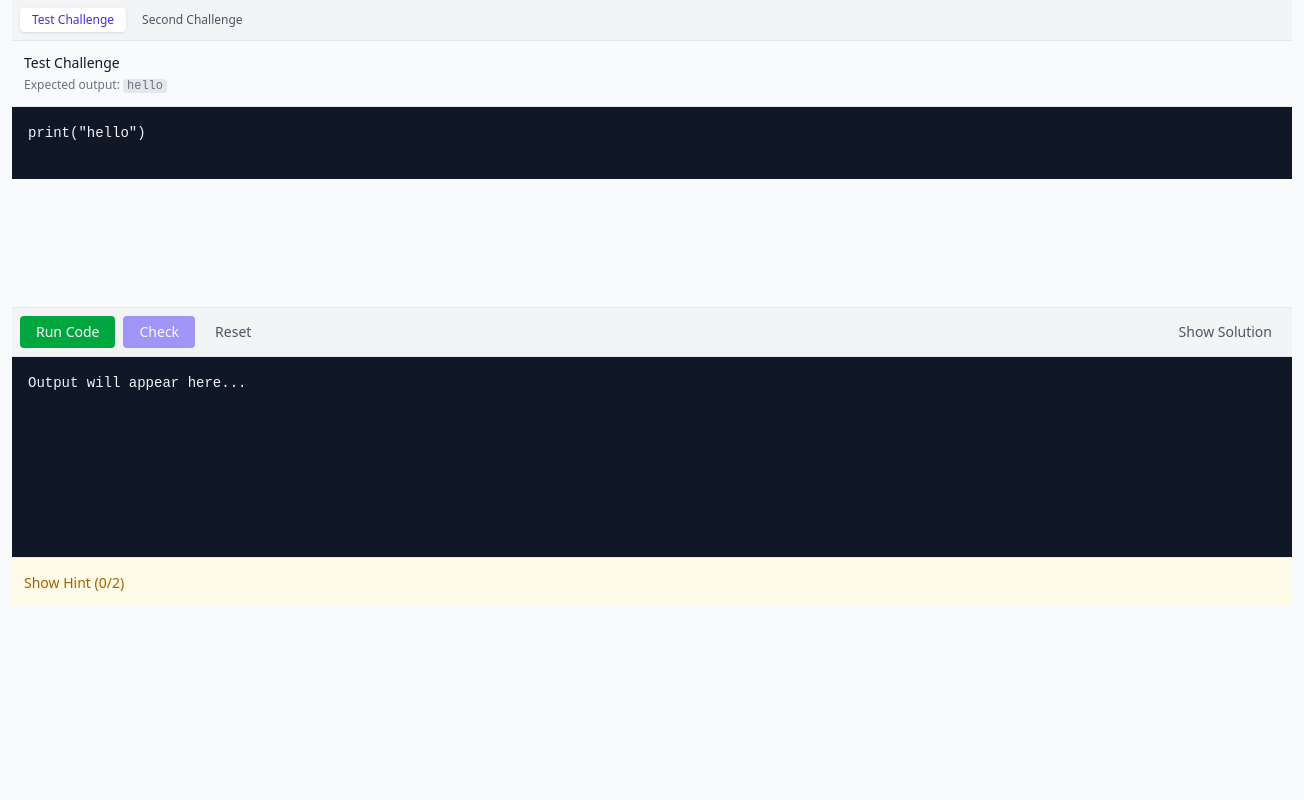
Test: CodeSandbox › switches between challenges
Click the button "Second Challenge" at (192, 20), box x1=130 y1=8 x2=255 y2=32
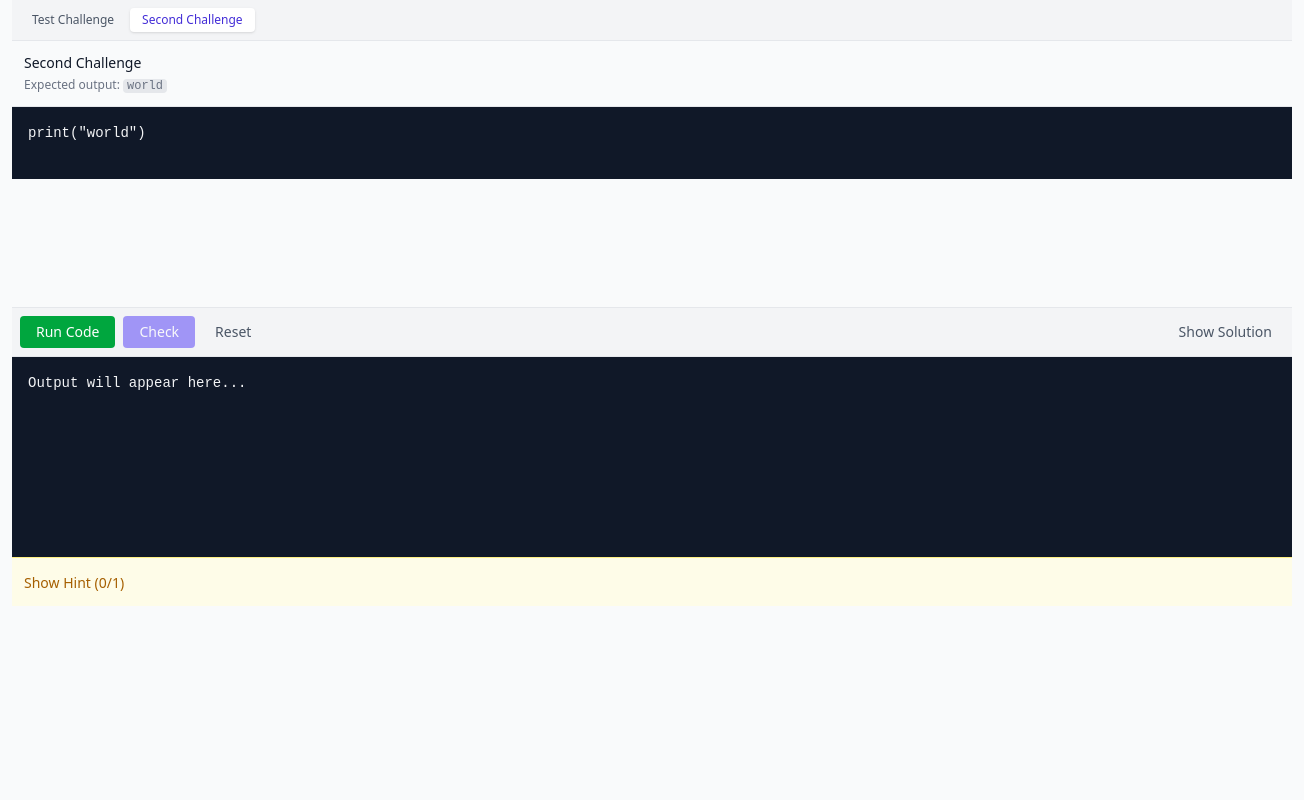
expect the text box named "Code editor" holds "print(\"world\")": met, box x1=12 y1=107 x2=1292 y2=179
